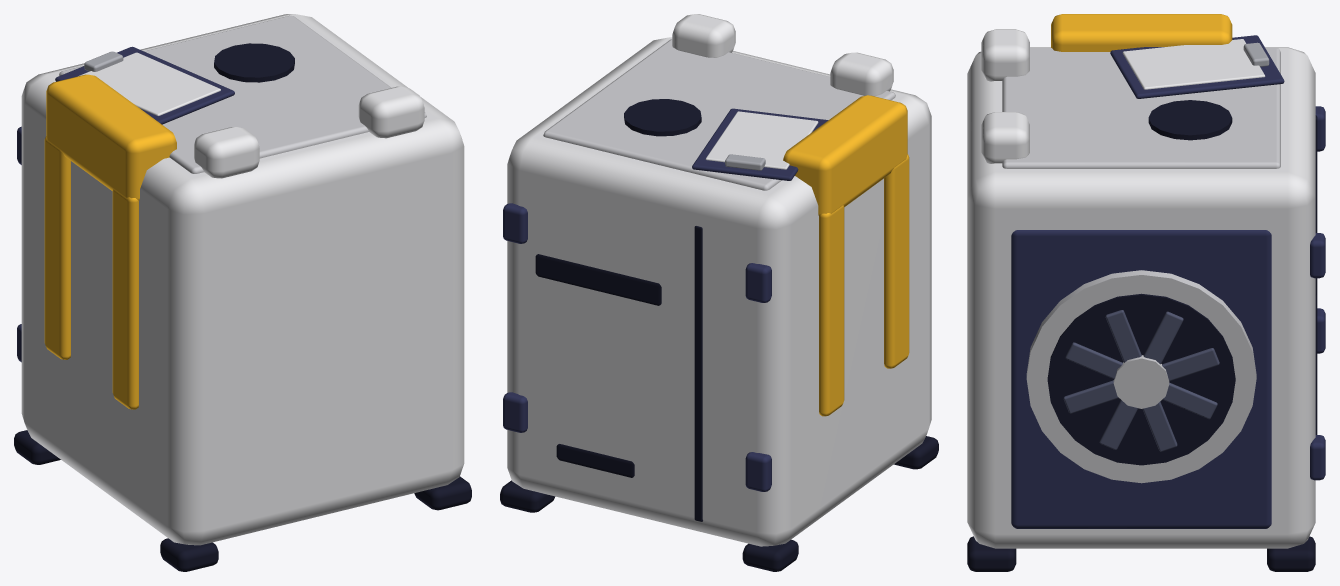
The model's file is prop.props_workrooms.crate_pale_vent.glb.
The picture shows the model from 3 angles, left to right: view 1: azimuth 30°, elevation 25°; view 2: azimuth 150°, elevation 25°; view 3: azimuth 270°, elevation 25°; orthographic projection. The views are drawn at different scales.
Visible parts, largest first — view 1: prop.props_workrooms.crate_pale_vent; view 2: prop.props_workrooms.crate_pale_vent; view 3: prop.props_workrooms.crate_pale_vent.
Boxes of the visible parts, box(x1,y1,x2,y2) form: prop.props_workrooms.crate_pale_vent: box(14, 14, 471, 571); prop.props_workrooms.crate_pale_vent: box(500, 14, 938, 571); prop.props_workrooms.crate_pale_vent: box(967, 14, 1325, 571).
Bounding box in the file's own units: 0.552 × 0.67 × 0.514.
